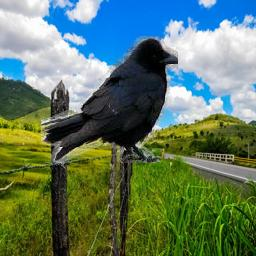Crow: (42, 37, 179, 164)
